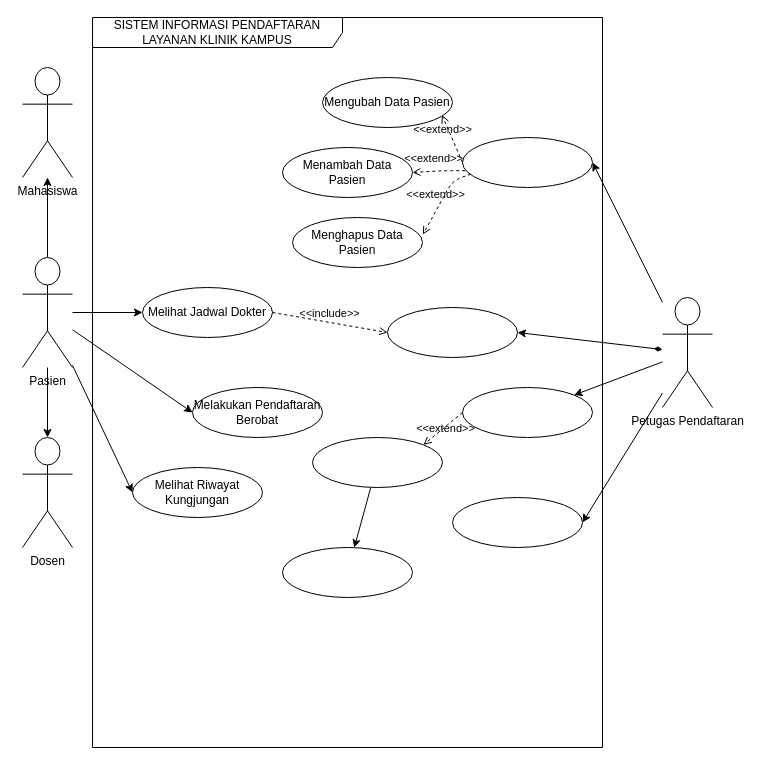
Some shapes in this 761 by 765 pixel diagram are drawn without their labels. The centre of each missing label's shape, as x and y in pixels:
Kelola data Pasien: pixel 527 162
Melihat Laporan Kunjungan: pixel 517 522
Memeriksa Ketersediaan Jadwal: pixel 452 332
Mencatat Pendaftaran: pixel 377 462
Mengubah Status Pembayaran: pixel 347 572
Menyimpan Pendaftaran: pixel 527 412
